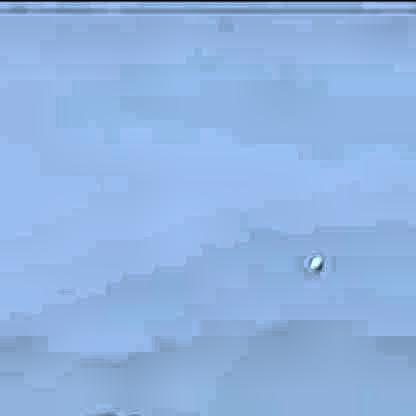golfball: (305, 253, 323, 271)
